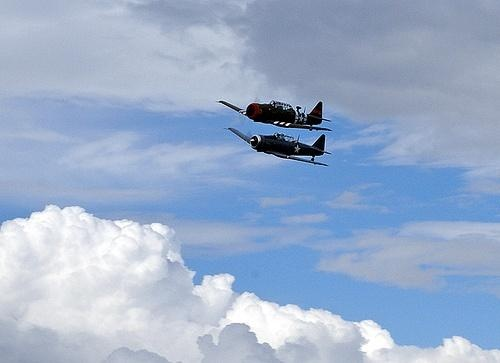aeroplane: (214, 93, 334, 134), (224, 124, 332, 168)
